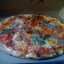pizza: (1, 14, 64, 60)
